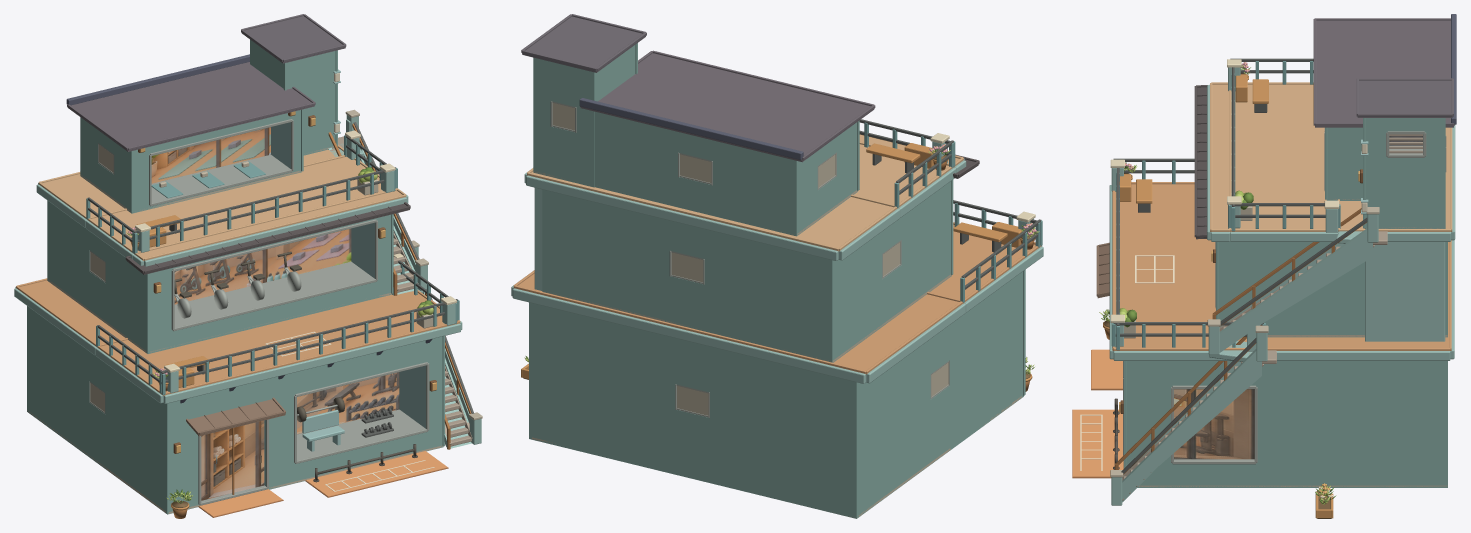
The picture shows the model from 3 angles, left to right: view 1: azimuth 30°, elevation 25°; view 2: azimuth 150°, elevation 25°; view 3: azimuth 270°, elevation 25°; orthographic projection. The views are drawn at different scales.
Parts seen in each view (by area): view 1: SM_04_01_建筑墙体, SM_04_04_门窗楼梯, SM_04_02_曲面屋顶, SM_04_03_木构回廊, SM_04_06_景观设施, SM_04_06_院内及专用铺地, SM_04_05_景观植物; view 2: SM_04_01_建筑墙体, SM_04_02_曲面屋顶, SM_04_03_木构回廊, SM_04_04_门窗楼梯, SM_04_06_景观设施, SM_04_05_景观植物; view 3: SM_04_01_建筑墙体, SM_04_02_曲面屋顶, SM_04_03_木构回廊, SM_04_04_门窗楼梯, SM_04_06_院内及专用铺地, SM_04_06_景观设施, SM_04_05_景观植物.
Boxes of the visible parts, bbox=[...] form: SM_04_01_建筑墙体: bbox=[27, 39, 443, 514]; SM_04_04_门窗楼梯: bbox=[86, 69, 474, 505]; SM_04_02_曲面屋顶: bbox=[16, 14, 460, 436]; SM_04_03_木构回廊: bbox=[14, 50, 482, 513]; SM_04_06_景观设施: bbox=[137, 161, 393, 451]; SM_04_06_院内及专用铺地: bbox=[198, 331, 448, 517]; SM_04_05_景观植物: bbox=[127, 167, 437, 518]; SM_04_01_建筑墙体: bbox=[529, 45, 1023, 518]; SM_04_02_曲面屋顶: bbox=[513, 14, 1041, 374]; SM_04_03_木构回廊: bbox=[511, 43, 1043, 395]; SM_04_04_门窗楼梯: bbox=[550, 101, 1042, 418]; SM_04_06_景观设施: bbox=[866, 143, 1021, 252]; SM_04_05_景观植物: bbox=[521, 144, 1039, 391]; SM_04_01_建筑墙体: bbox=[1126, 118, 1447, 487]; SM_04_02_曲面屋顶: bbox=[1096, 18, 1454, 350]; SM_04_03_木构回廊: bbox=[1109, 14, 1456, 505]; SM_04_04_门窗楼梯: bbox=[1112, 58, 1446, 500]; SM_04_06_院内及专用铺地: bbox=[1072, 255, 1174, 478]; SM_04_06_景观设施: bbox=[1119, 74, 1268, 212]; SM_04_05_景观植物: bbox=[1099, 62, 1336, 518].
Size of the model in its own units: 11.85 by 10.68 by 9.88.
Materials: 35 (1 with a texture image).
